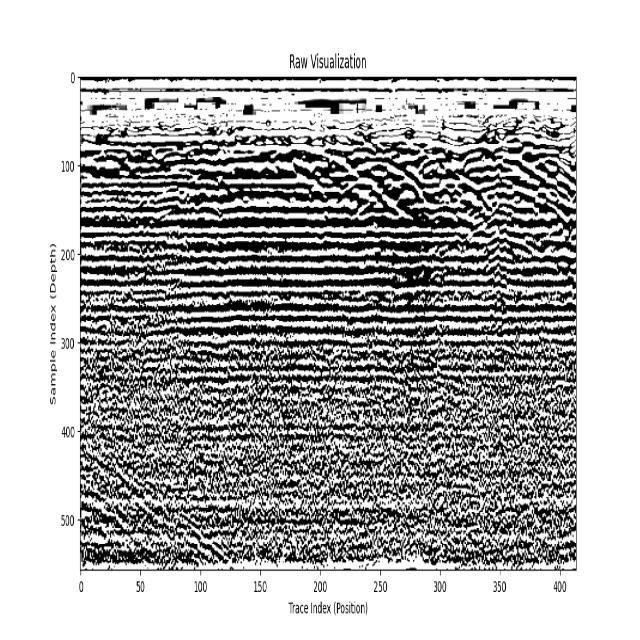anomaly: (80, 430, 234, 571)
